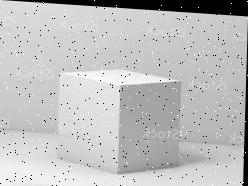cube: (55, 65, 183, 177)
